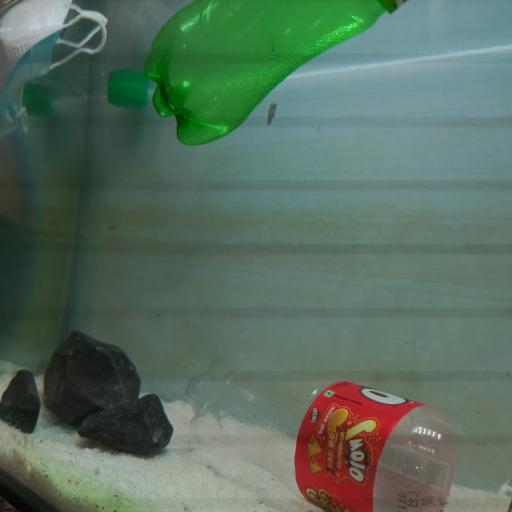bottle_cap: (111, 82, 144, 108)
mask: (0, 0, 108, 129)
plastic_bottle: (185, 350, 512, 512), (144, 1, 410, 147)
